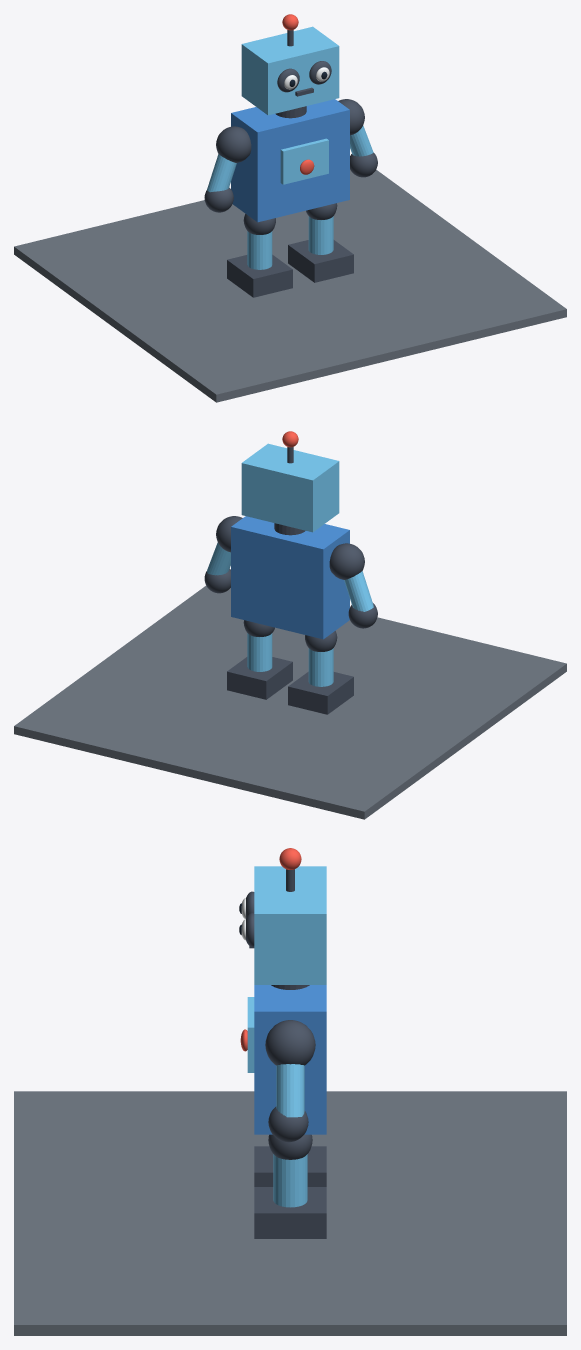
File: Robot.glb
3 renders of one model, top to bottom at view 1: azimuth 30°, elevation 25°; view 2: azimuth 150°, elevation 25°; view 3: azimuth 270°, elevation 25°, orthographic. The views are drawn at different scales.
Visible parts, largest first — view 1: Ground Platform, Robot Torso, Robot Head, Left Foot, Right Foot, Chest Panel, Left Shoulder, Right Leg, Left Leg, Left Upper Arm, Left Hand, Right Hand (+2 smaller); view 2: Ground Platform, Robot Torso, Robot Head, Left Foot, Right Foot, Left Shoulder, Right Leg, Left Leg, Left Upper Arm, Right Upper Arm, Left Hand, Right Shoulder; view 3: Ground Platform, Robot Head, Robot Torso, Right Foot, Right Shoulder, Right Leg, Left Foot, Right Upper Arm, Right Hand, Right Knee, Chest Panel.
Boxes of the visible parts, x1,y1,x2,y2 form: Ground Platform: (14, 169, 566, 402); Robot Torso: (231, 99, 349, 222); Robot Head: (241, 26, 339, 115); Left Foot: (227, 254, 292, 297); Right Foot: (288, 240, 353, 282); Chest Panel: (280, 138, 328, 184); Left Shoulder: (216, 126, 251, 162); Right Leg: (308, 216, 333, 254); Left Leg: (247, 231, 272, 269); Left Upper Arm: (207, 154, 236, 192); Left Hand: (204, 187, 233, 212); Right Hand: (350, 152, 377, 177); Ground Platform: (14, 586, 566, 819); Robot Torso: (231, 516, 349, 639); Robot Head: (241, 443, 339, 532); Left Foot: (288, 671, 353, 714); Right Foot: (227, 657, 292, 699); Left Shoulder: (329, 543, 364, 579); Right Leg: (247, 633, 272, 671); Left Leg: (308, 648, 333, 686); Left Upper Arm: (344, 571, 373, 611); Right Upper Arm: (207, 542, 230, 575); Left Hand: (348, 603, 377, 628); Right Shoulder: (216, 516, 242, 552); Ground Platform: (14, 1091, 566, 1335); Robot Head: (254, 866, 326, 984); Robot Torso: (254, 985, 326, 1134); Right Foot: (254, 1187, 326, 1238); Right Shoulder: (265, 1020, 315, 1065); Right Leg: (273, 1154, 307, 1207); Left Foot: (254, 1146, 326, 1186); Right Upper Arm: (276, 1064, 304, 1117); Right Hand: (268, 1106, 308, 1142); Right Knee: (268, 1134, 312, 1159); Chest Panel: (247, 997, 254, 1072).
Bounding box in the file's own units: 5.5 × 4.06 × 5.5.
